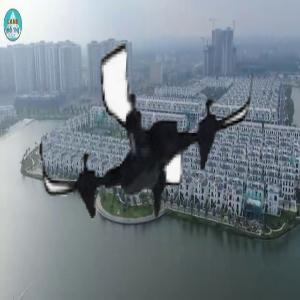drone: (39, 34, 252, 247)
